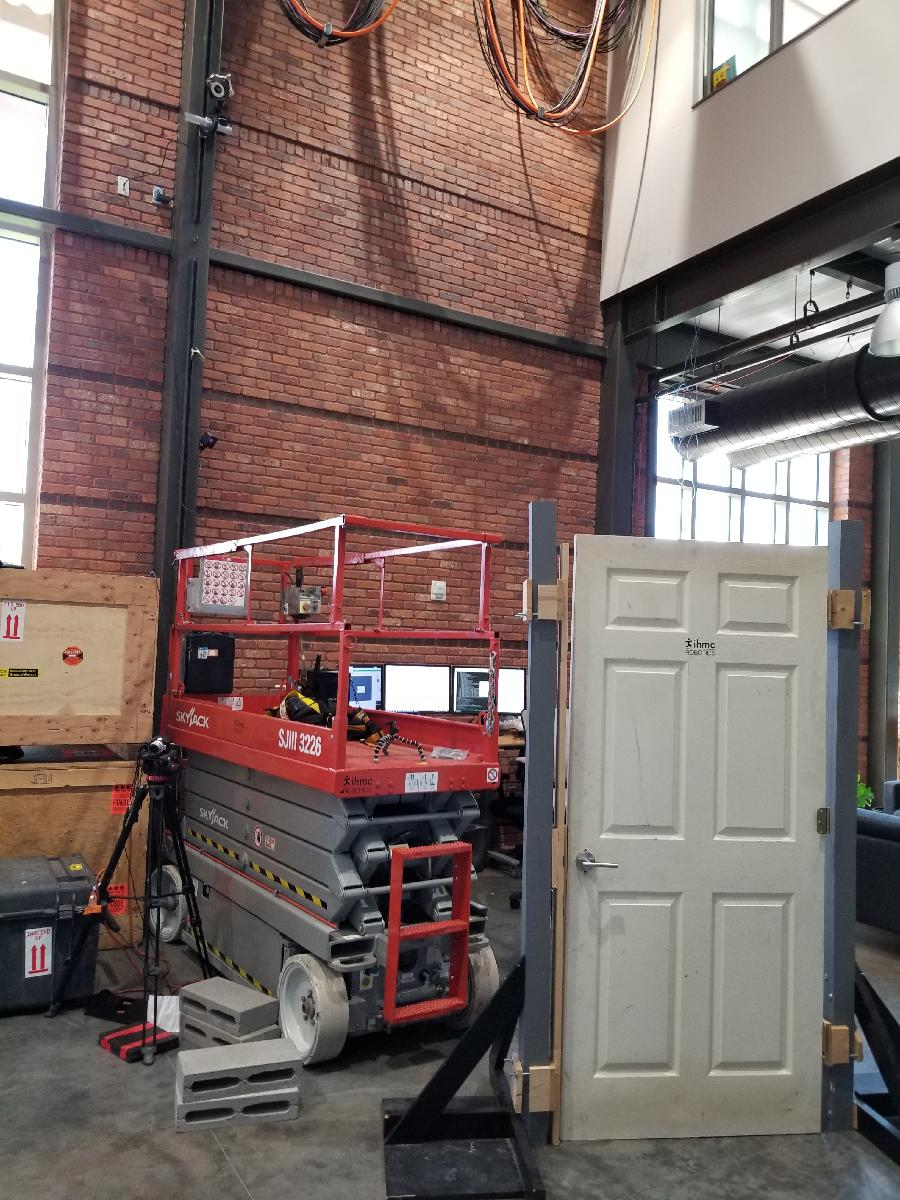door: (556, 529, 834, 1145)
doorHandle: (572, 846, 617, 876)
